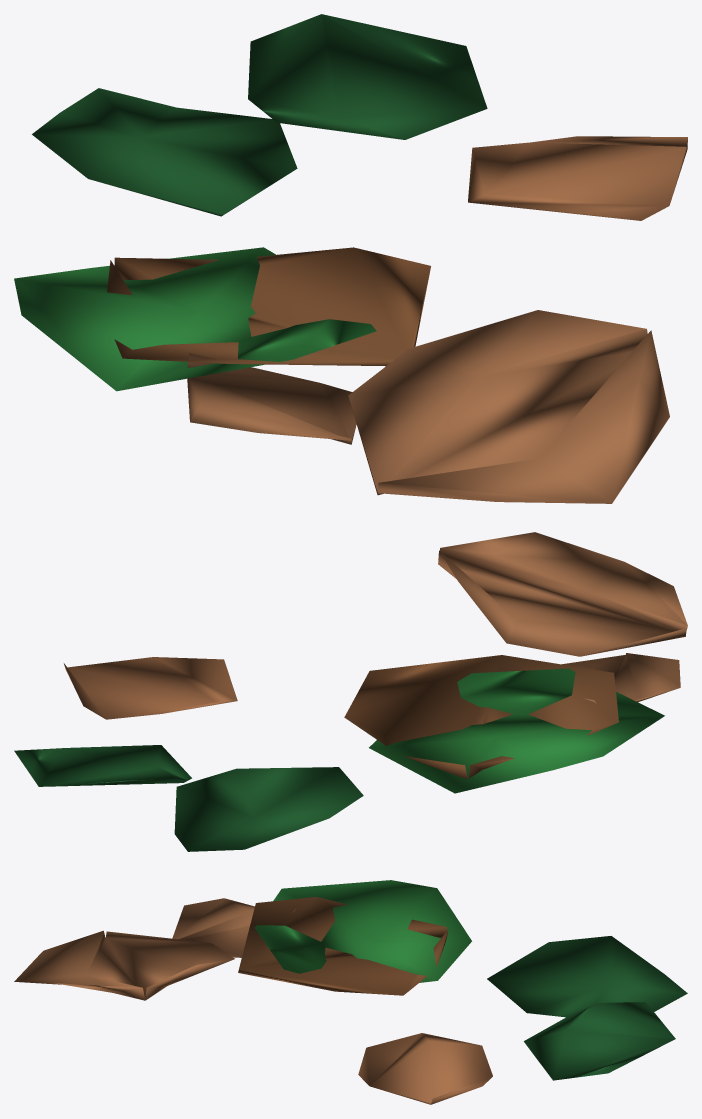
The model's file is canopy_gc_leaf_litter_b_lod2.glb.
3 views of the same model, one above another, from view 1: azimuth 30°, elevation 25°; view 2: azimuth 150°, elevation 25°; view 3: azimuth 270°, elevation 25° (orthographic). The views are drawn at different scales.
Parts seen in each view (by area): view 1: canopy_gc_leaf_litter_b.001; view 2: canopy_gc_leaf_litter_b.001; view 3: canopy_gc_leaf_litter_b.001.
Part boxes in pixels (x1,y1,x2,y2): canopy_gc_leaf_litter_b.001: [14, 14, 687, 503]; canopy_gc_leaf_litter_b.001: [14, 532, 687, 851]; canopy_gc_leaf_litter_b.001: [14, 880, 687, 1104].
Bounding box in the file's own units: 3.77 × 0.3965 × 5.17.
